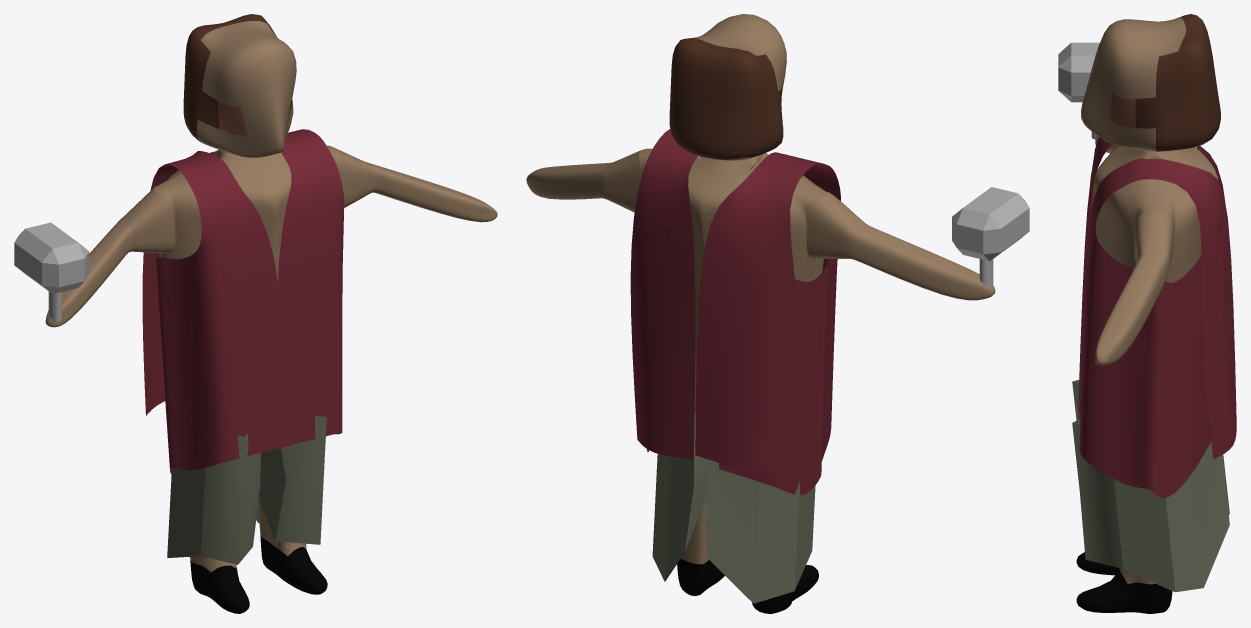
The model's file is Ferreiro Hefesto.fbx.
3 renders of one model, left to right at view 1: azimuth 30°, elevation 25°; view 2: azimuth 150°, elevation 25°; view 3: azimuth 270°, elevation 25°, orthographic. The views are drawn at different scales.
Parts seen in each view (by area): view 1: pPlane2, pCube3, pPlane1, pCylinder2; view 2: pPlane2, pCube3, pPlane1, pCylinder2; view 3: pPlane2, pCube3, pPlane1, pCylinder2.
Boxes of the visible parts, x1,y1,x2,y2 form: pPlane2: [142, 129, 344, 476]; pCube3: [45, 14, 497, 613]; pPlane1: [167, 416, 326, 564]; pCylinder2: [14, 222, 89, 321]; pPlane2: [630, 129, 840, 494]; pCube3: [526, 14, 995, 613]; pPlane1: [652, 412, 815, 603]; pCylinder2: [952, 187, 1029, 286]; pPlane2: [1078, 137, 1236, 498]; pCube3: [1076, 14, 1220, 613]; pPlane1: [1072, 379, 1229, 592]; pCylinder2: [1058, 42, 1099, 139].
Size of the model in its own units: 1.51 by 1.7 by 0.4841.
